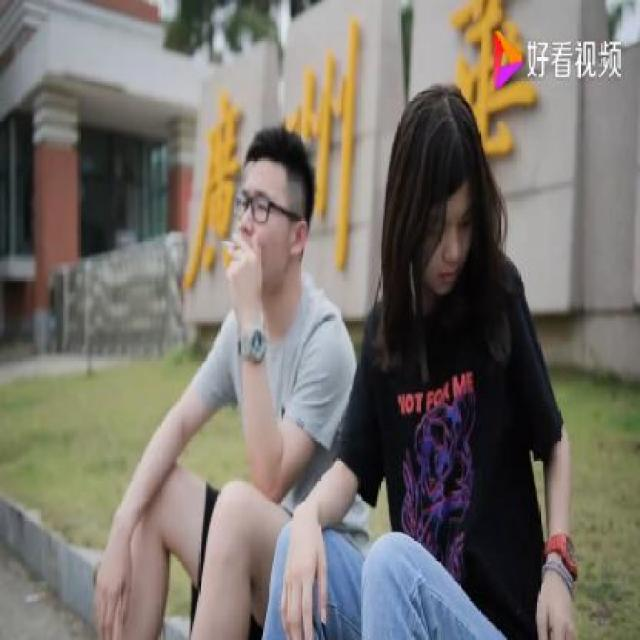smoke: (215, 231, 243, 258)
